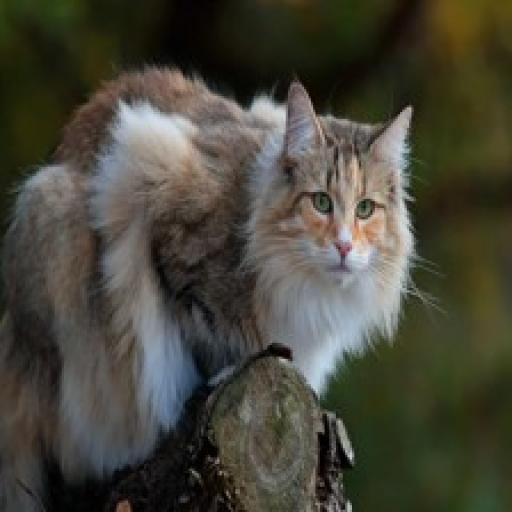cat: (0, 65, 451, 500)
